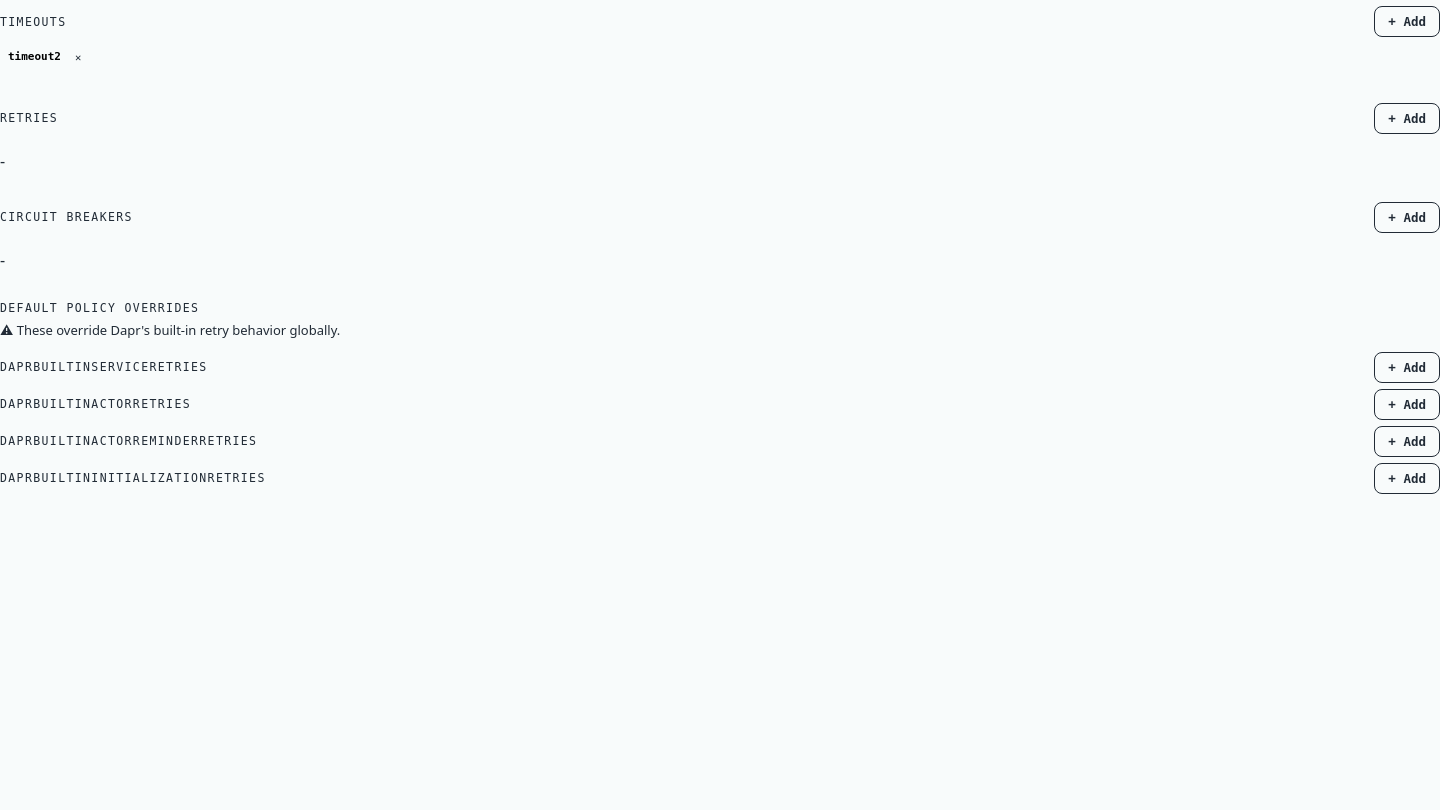
Test case: StepPolicies › suggests the first free timeout name after a deletion instead of colliding
Click the button with aria-label "add timeouts" at (1407, 22), box 1374,6 -> 1439,37
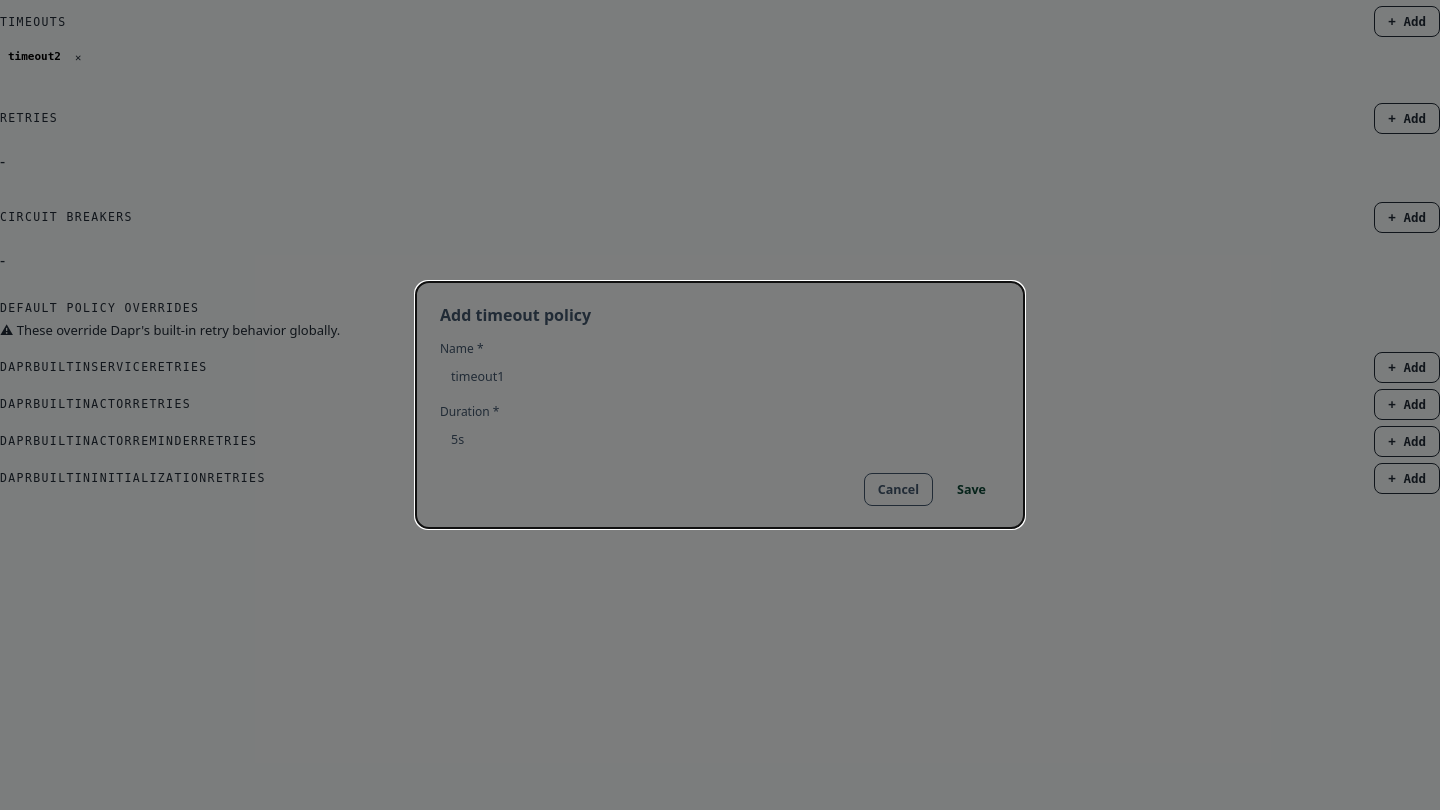
Expected: the field named "timeout name" holds "timeout1", 440,361 -> 1022,392
